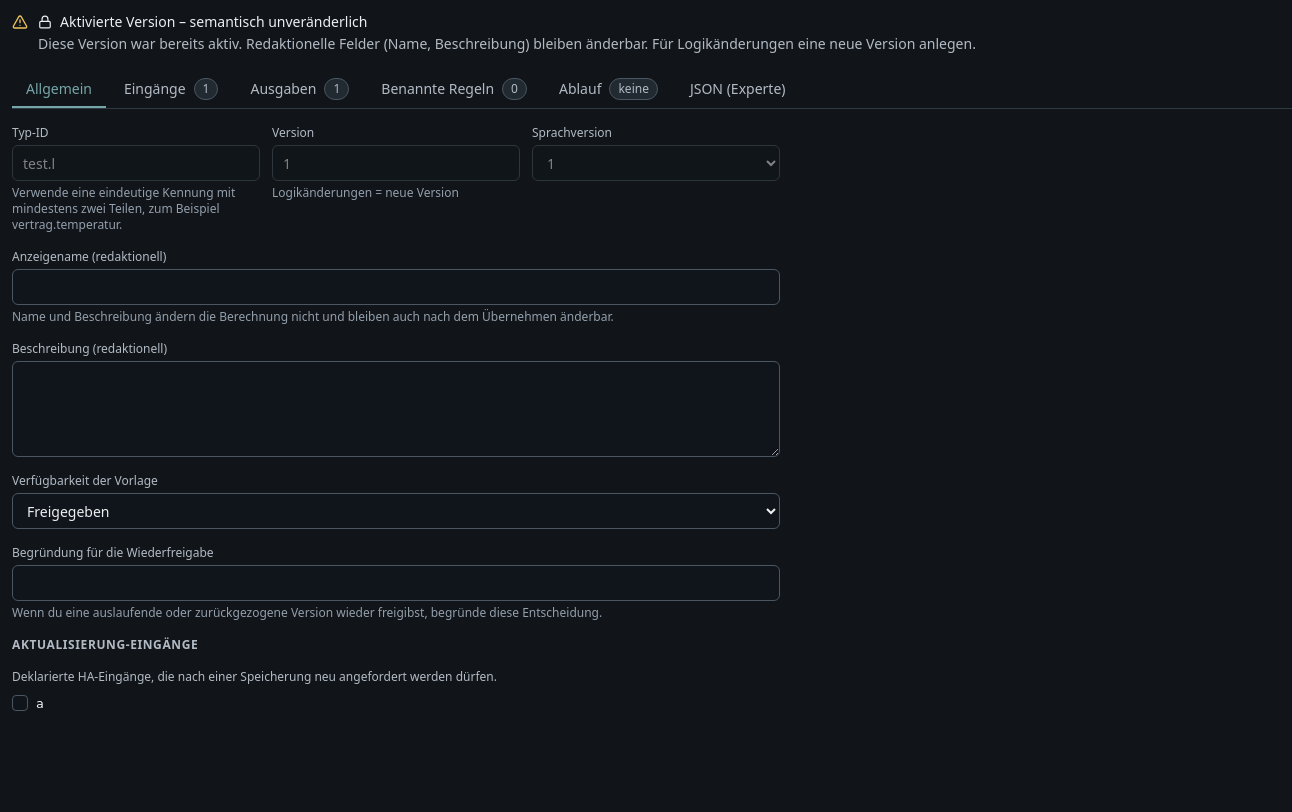
Test: operators beyond the example › locked (activated) definitions cannot change logic
The width and height of the screenshot is (1292, 812).
Click the tab "Ausgaben 1".
click(300, 89)  # box [236,70,363,108]
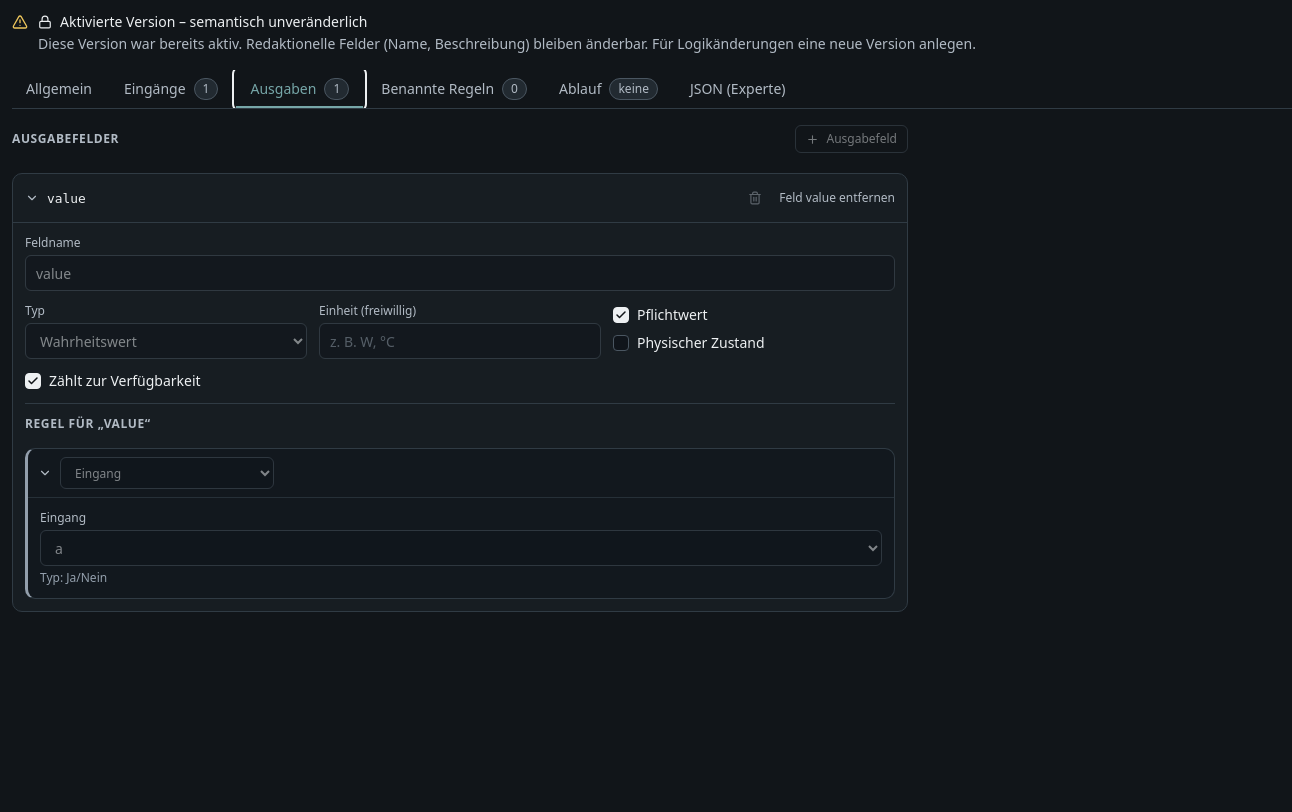
Now the dropdown named "Operator" is disabled, box [60,457,274,489]
